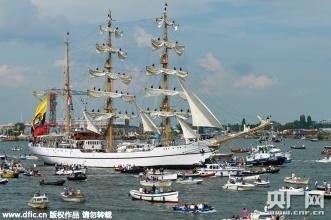fanchuan: (35, 1, 264, 165)
otherboat: (128, 182, 184, 200), (60, 182, 88, 202), (224, 178, 257, 194), (26, 189, 52, 209)
